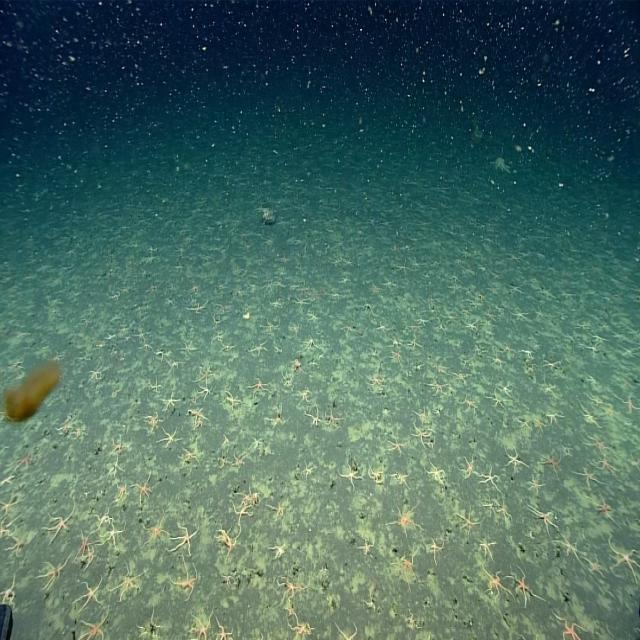brittle-stars: (609, 538, 640, 582), (526, 500, 556, 538), (338, 455, 366, 492), (171, 559, 197, 598), (113, 566, 142, 600), (394, 550, 418, 591), (76, 613, 112, 640), (44, 506, 72, 540), (558, 532, 584, 568), (582, 548, 608, 582), (74, 579, 104, 608), (591, 452, 620, 482), (286, 607, 314, 638), (39, 560, 66, 592), (481, 564, 505, 598), (552, 615, 583, 640), (422, 458, 447, 489), (276, 572, 300, 604), (249, 374, 272, 407), (173, 522, 195, 556), (480, 467, 503, 498), (230, 500, 252, 532), (512, 569, 531, 606), (576, 462, 602, 489), (614, 390, 640, 417), (584, 431, 612, 456), (578, 402, 602, 431), (410, 420, 432, 450), (189, 609, 210, 640), (537, 376, 561, 403), (456, 505, 475, 539), (141, 516, 164, 544), (134, 471, 153, 504), (219, 388, 243, 414), (177, 443, 201, 469), (212, 613, 235, 640), (502, 445, 524, 473), (0, 490, 20, 520), (110, 430, 130, 460), (395, 506, 415, 534), (460, 452, 480, 480), (424, 374, 446, 399), (248, 333, 269, 359), (12, 445, 32, 472), (102, 522, 121, 549), (494, 501, 513, 528), (2, 574, 17, 608), (187, 404, 210, 426), (405, 330, 423, 357), (161, 427, 181, 451), (270, 497, 289, 522), (298, 458, 317, 483), (269, 536, 287, 562), (114, 477, 130, 506), (261, 316, 282, 338), (541, 451, 561, 474), (358, 536, 377, 560), (488, 388, 507, 412), (388, 470, 409, 491), (92, 510, 114, 530), (54, 415, 76, 435), (428, 534, 443, 563), (106, 457, 124, 481), (366, 370, 386, 391), (509, 308, 529, 329), (388, 432, 404, 458), (368, 460, 384, 486), (324, 406, 340, 432), (179, 336, 197, 359), (545, 408, 562, 432), (500, 341, 517, 365), (495, 378, 514, 399), (412, 312, 431, 333), (306, 404, 324, 426), (291, 293, 313, 311), (490, 348, 506, 372), (162, 391, 182, 410), (596, 493, 611, 518), (279, 368, 294, 393), (147, 373, 163, 396), (532, 413, 546, 439), (542, 353, 561, 372), (304, 332, 319, 356), (230, 452, 248, 471), (433, 318, 450, 338), (77, 528, 89, 556), (146, 409, 162, 430), (516, 413, 532, 434), (87, 366, 104, 385), (368, 282, 384, 302), (135, 326, 149, 346), (82, 543, 94, 566), (296, 388, 312, 405), (196, 383, 214, 398), (389, 335, 402, 353), (306, 311, 321, 326), (462, 320, 478, 334)
